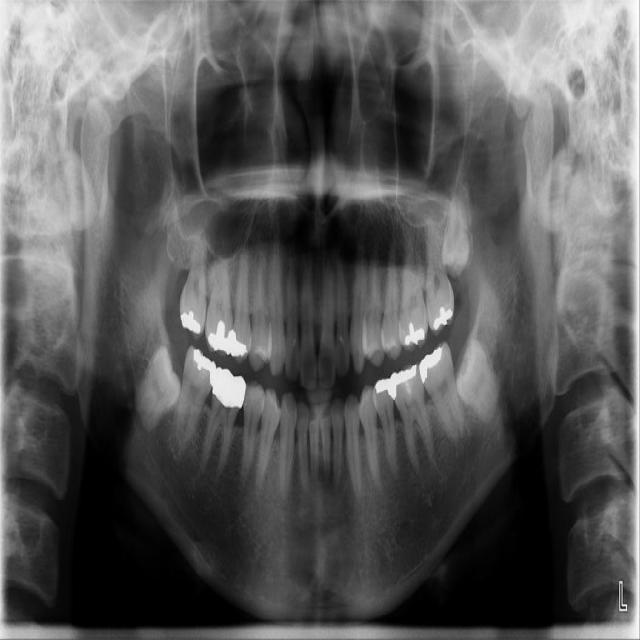Crown: (212, 368, 246, 411)
Filling: (417, 345, 444, 389), (190, 351, 217, 386), (207, 321, 235, 353), (401, 324, 429, 353), (179, 309, 203, 336), (432, 305, 453, 333), (392, 368, 416, 391), (230, 336, 249, 359), (374, 378, 394, 399)
impacted tooth: (135, 344, 178, 434), (458, 336, 500, 423), (437, 187, 468, 272)
